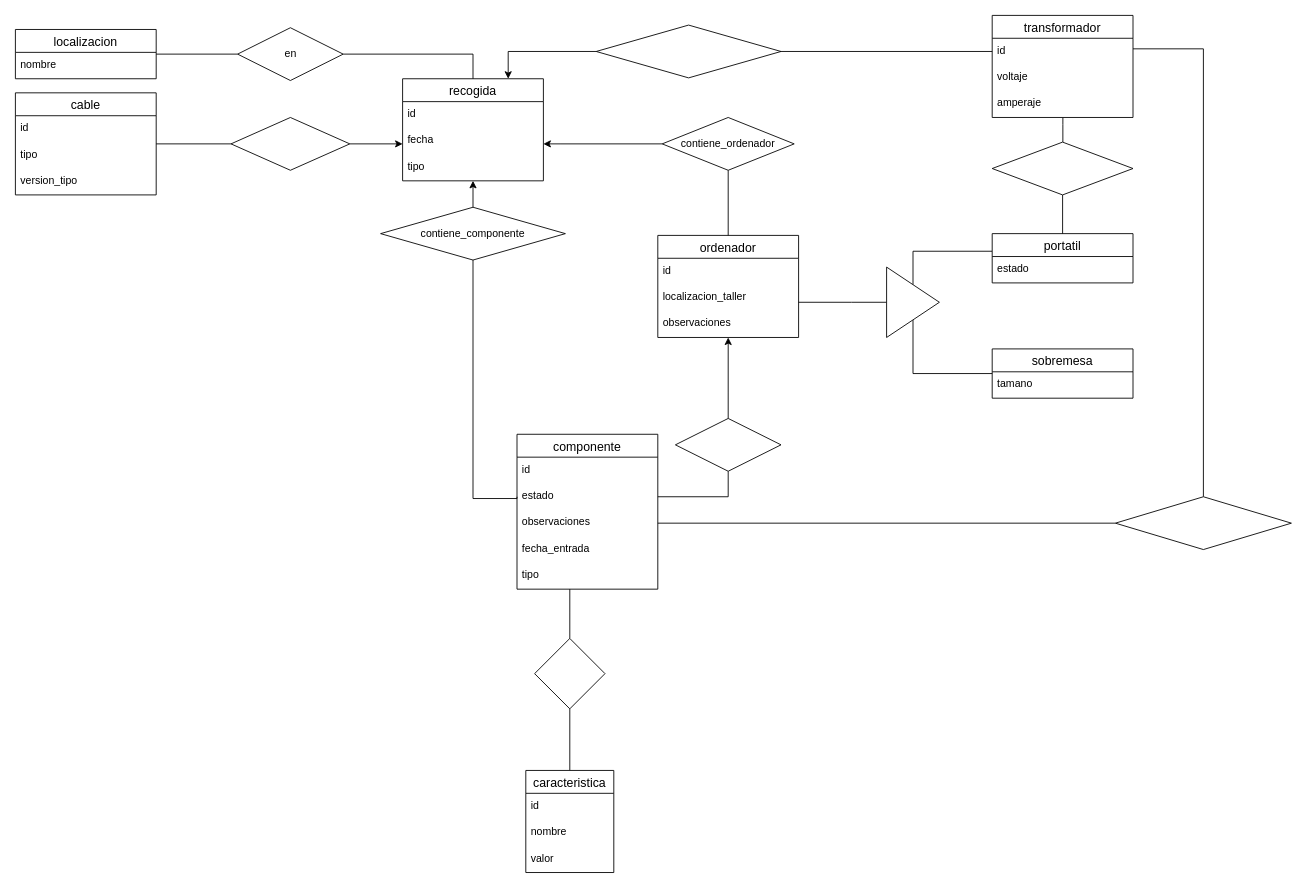
Image size: 1307x891. Some labels were removed from this diagram. Each missing label, with the centre of its shape:
contiene_cable: [290,143]
contiene_transformador: [688,51]
corresponde_componente: [1203,523]
corresponde_portatil: [1062,168]
formado: [728,444]
tiene: [569,673]
